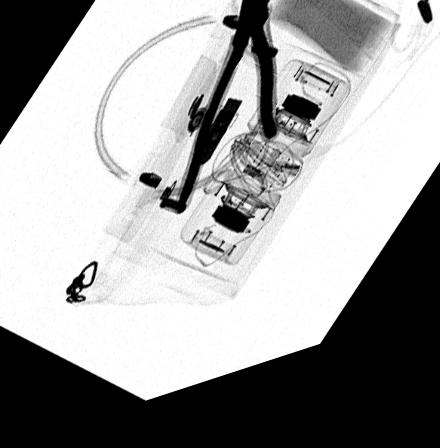Pliers: (175, 0, 279, 225)
